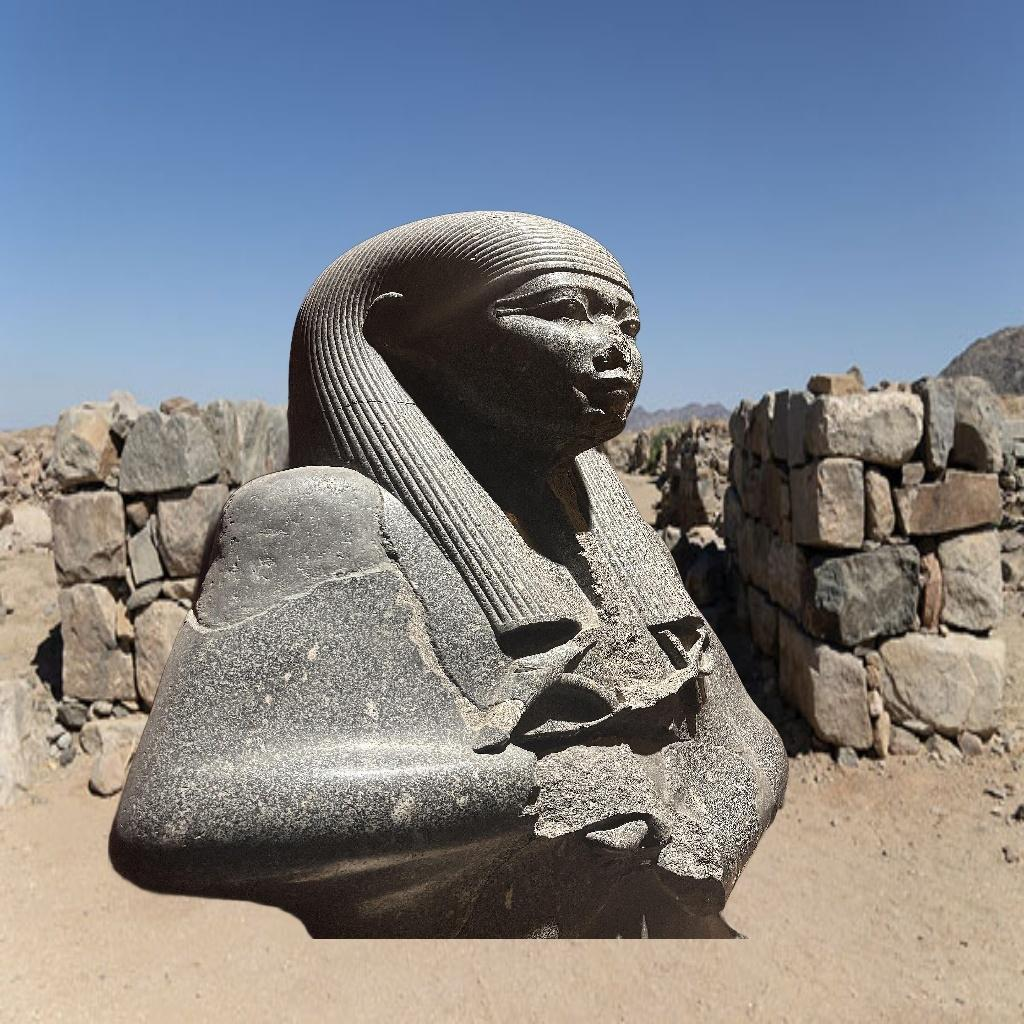Granite Statue of Osiris: (108, 210, 794, 940)
